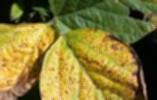Tomato Septoria leaf spot: (41, 30, 157, 100), (47, 0, 157, 49), (0, 18, 57, 100)
